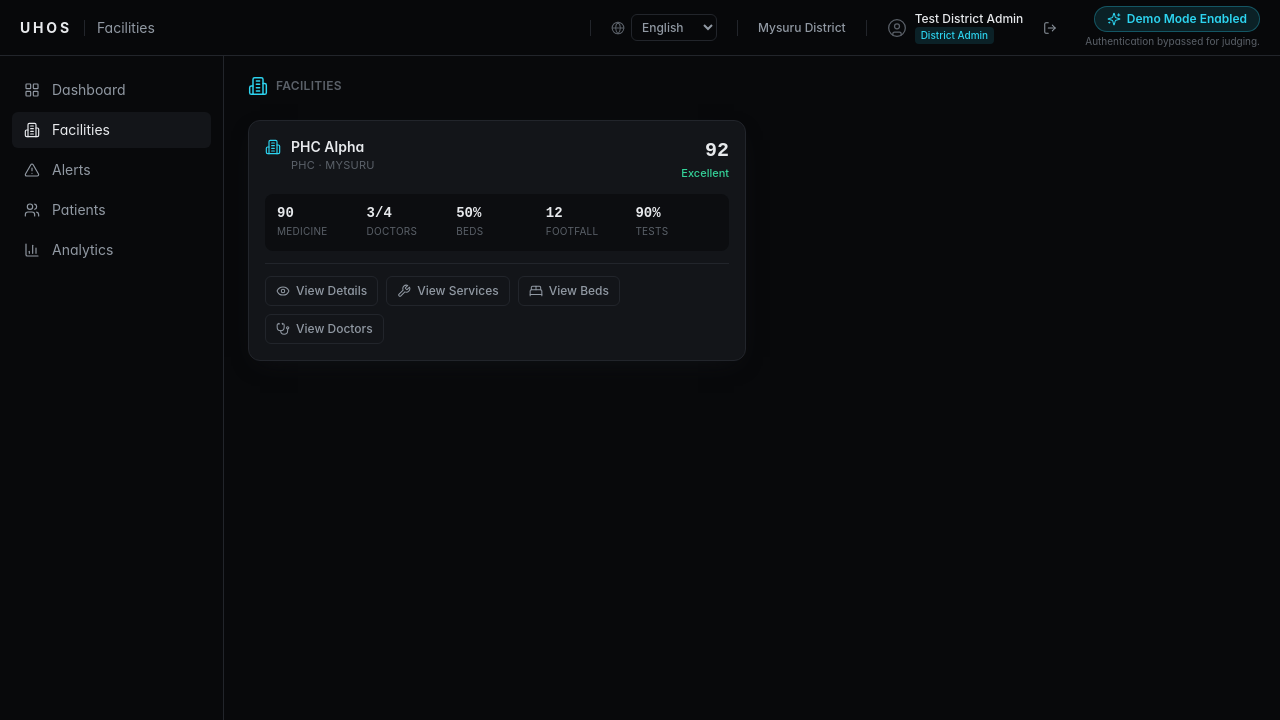
Test: Facilities page › opens the Beds tab and shows ward breakdown
Expected: the text "PHC Alpha" is shown, [291, 137, 375, 157]
Click the button "View Beds": (569, 290) [518, 276, 620, 306]
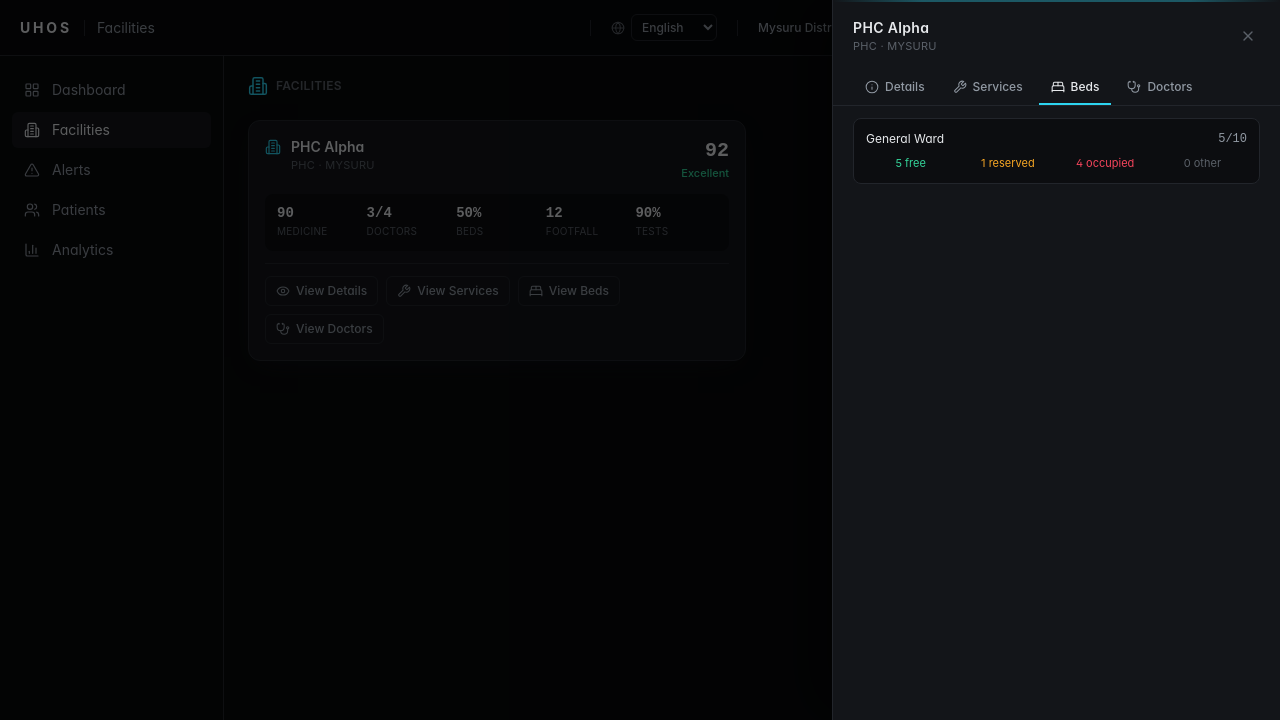
Expected: the text "General Ward" is shown, [866, 130, 944, 146]
